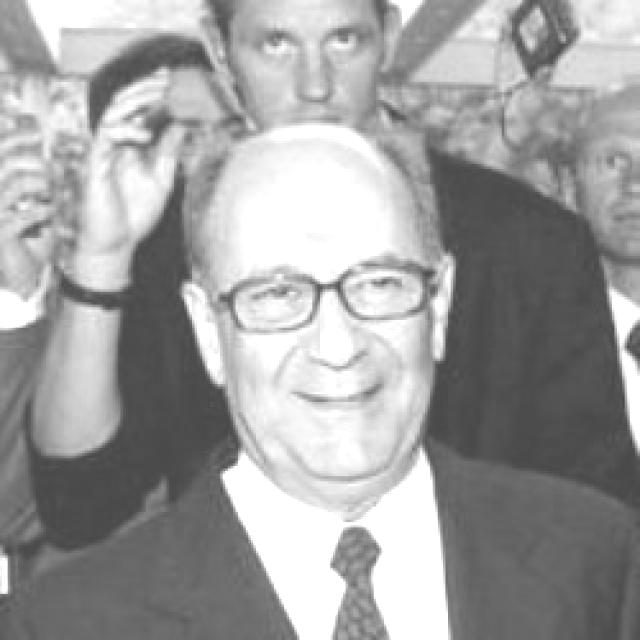real: (205, 138, 431, 480), (242, 265, 420, 319), (259, 24, 370, 62)
